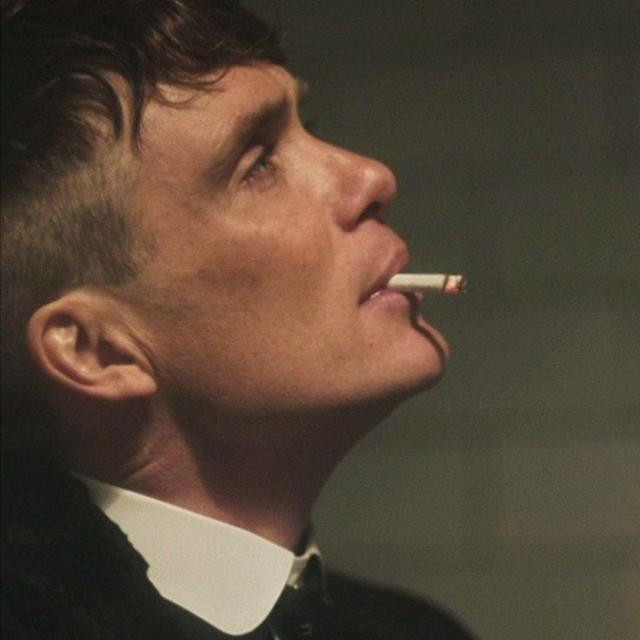cigarette: (371, 250, 529, 342)
